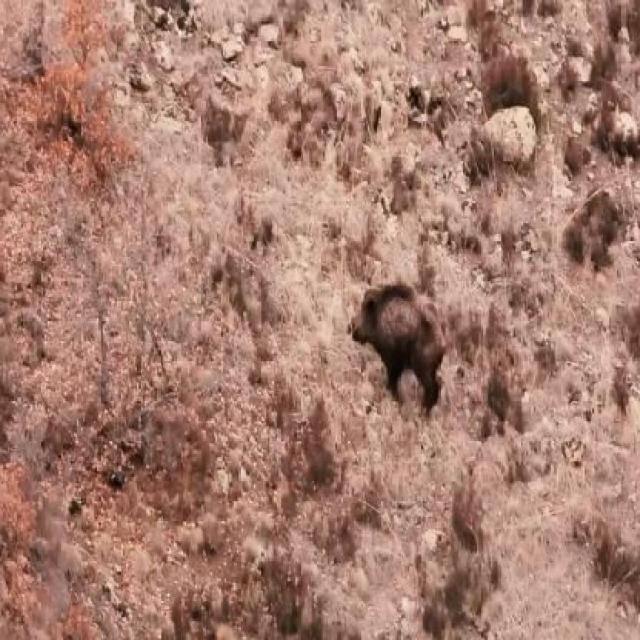pig: (336, 264, 466, 468)
